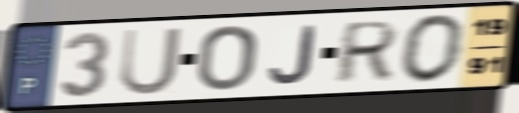3: (57, 28, 112, 101)
J: (267, 23, 320, 86)
O: (399, 13, 469, 86), (194, 23, 260, 93)
R: (330, 18, 402, 86)
U: (117, 24, 185, 98)
